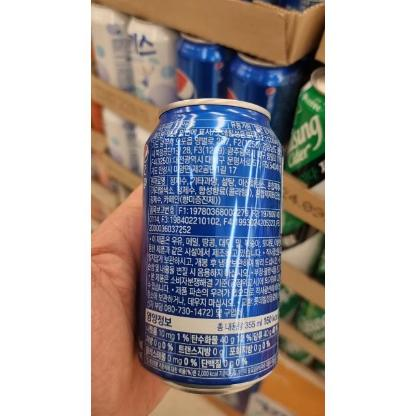Can: (139, 98, 283, 396)
